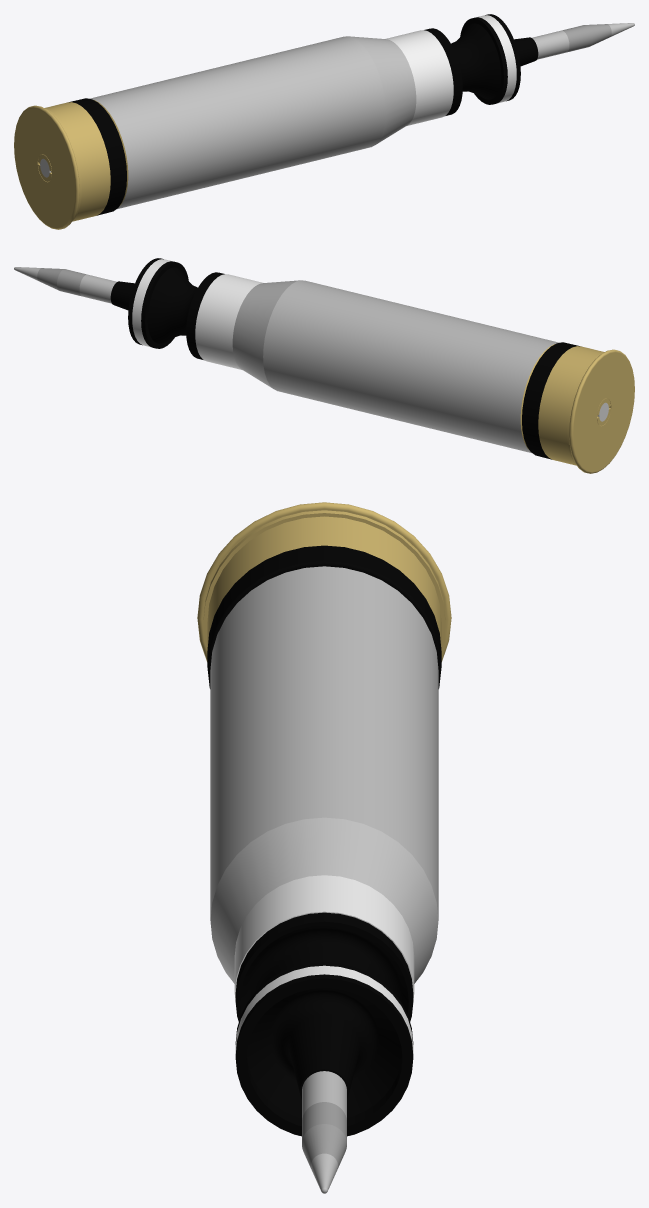
The model's file is special_shell.glb.
The picture shows the model from 3 angles, top to bottom: view 1: azimuth 30°, elevation 25°; view 2: azimuth 150°, elevation 25°; view 3: azimuth 270°, elevation 25°; orthographic projection. The views are drawn at different scales.
Visible parts, largest first — view 1: Object_12, Object_6, Object_10, Object_14, Object_11, Object_4, Object_13; view 2: Object_12, Object_6, Object_10, Object_14, Object_11, Object_4, Object_13; view 3: Object_12, Object_10, Object_6, Object_14, Object_11, Object_4, Object_13.
Part boxes in pixels (<box>): Object_12: <box>90,23,634,208</box>; Object_6: <box>14,102,110,229</box>; Object_10: <box>424,14,538,115</box>; Object_14: <box>386,15,516,126</box>; Object_11: <box>69,98,126,215</box>; Object_4: <box>562,24,611,52</box>; Object_13: <box>532,30,569,59</box>; Object_12: <box>14,267,558,452</box>; Object_6: <box>538,346,634,473</box>; Object_10: <box>110,258,224,359</box>; Object_14: <box>132,259,262,370</box>; Object_11: <box>522,342,579,459</box>; Object_4: <box>37,268,86,296</box>; Object_13: <box>79,274,116,303</box>; Object_12: <box>210,566,438,1193</box>; Object_10: <box>235,912,413,1136</box>; Object_6: <box>197,502,451,661</box>; Object_14: <box>234,875,414,1053</box>; Object_11: <box>207,545,441,688</box>; Object_4: <box>302,1102,346,1168</box>; Object_13: <box>302,1071,346,1119</box>.
Bounding box in the file's own units: 2 × 0.3733 × 0.3733.
